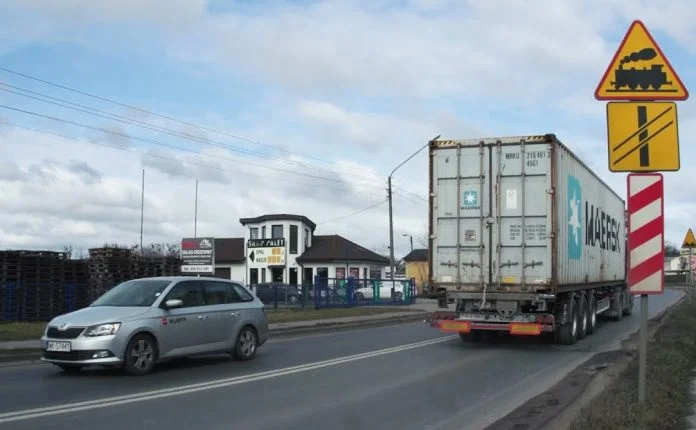a10: (604, 46, 680, 94)
